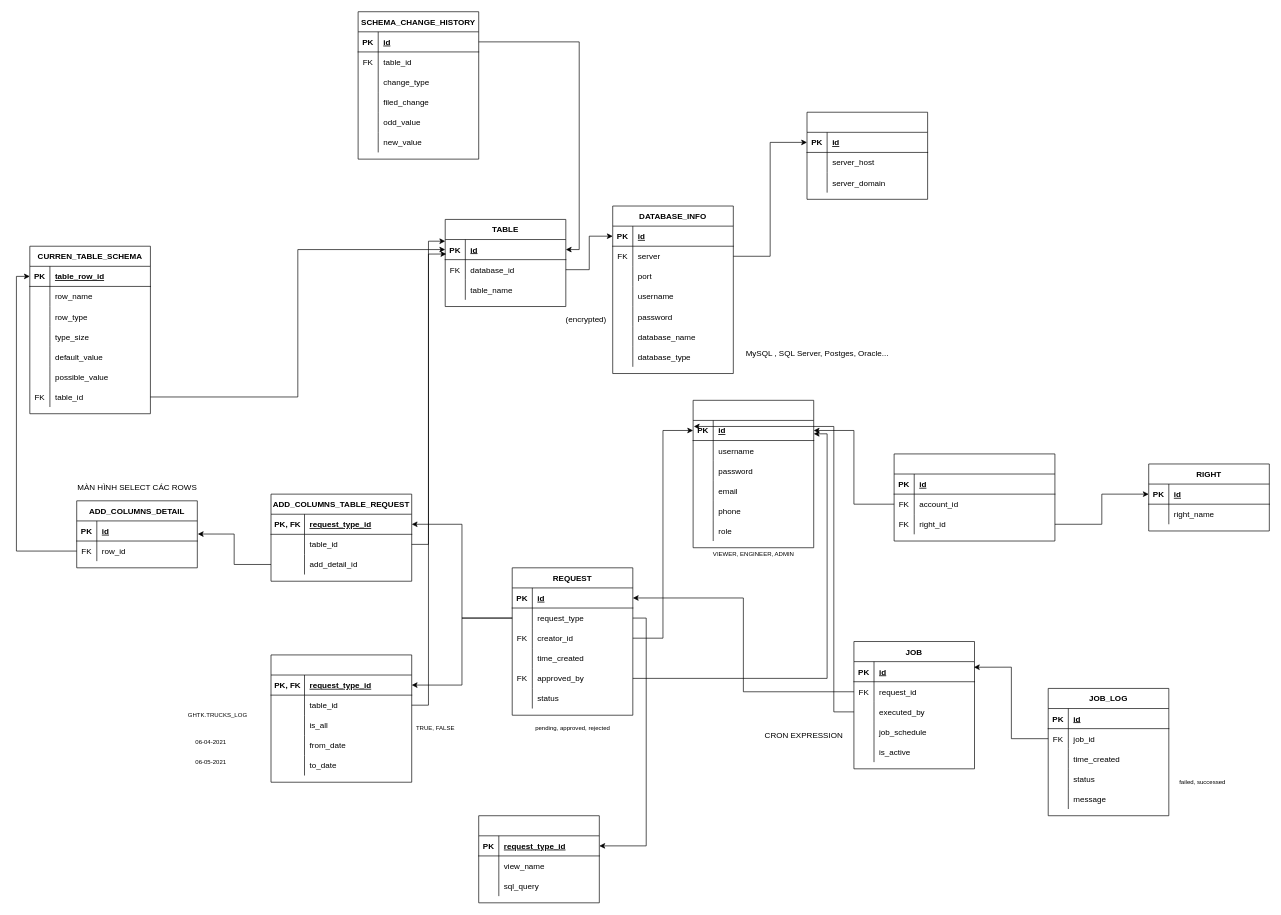
Some shapes in this 1281 by 915 pixel diagram are drawn without their labels. Here are the shapes that lost their labels. From the top down, the box of each, then its label:
(806, 112, 928, 199): SERVER_INFO
(692, 400, 814, 548): ACCOUNT
(893, 453, 1055, 541): ACCOUNT_RIGHT
(270, 654, 412, 782): SYNC_TABLE_REQUEST
(478, 815, 599, 903): CREATE_VIEW_REQUEST
